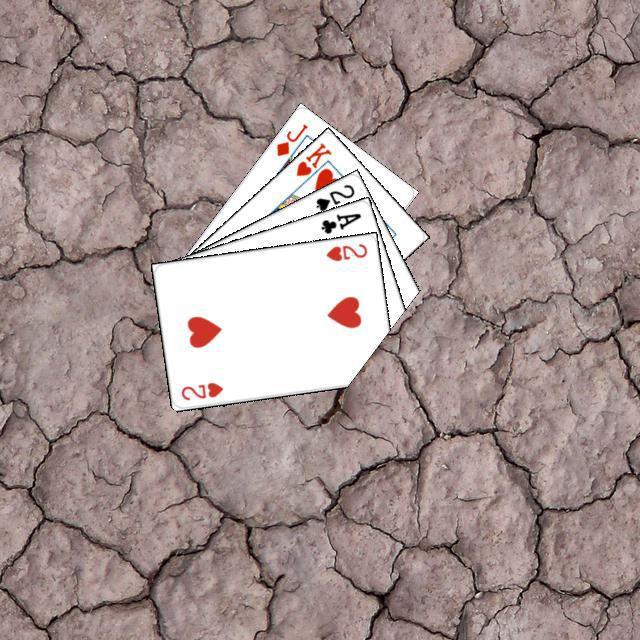2h: (176, 377, 225, 402), (321, 238, 369, 263)
2s: (311, 179, 356, 213)
Ac: (316, 208, 363, 236)
Jd: (271, 119, 310, 158)
Kh: (291, 138, 333, 188)
